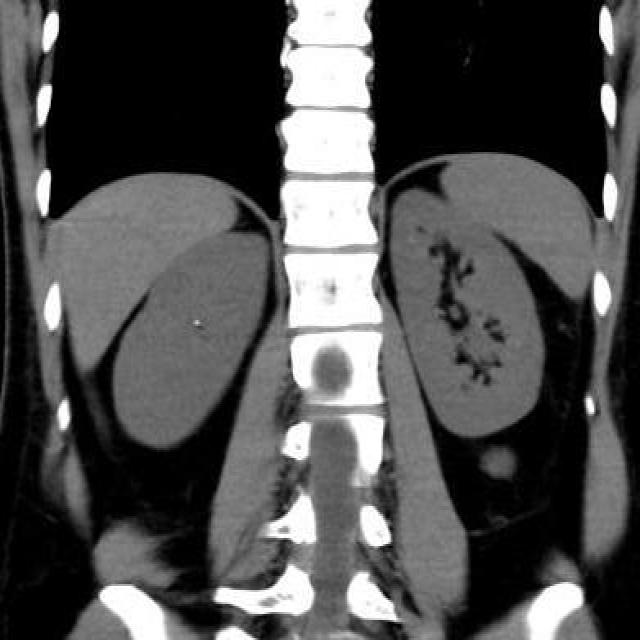Tas_Var: (188, 315, 205, 331)
